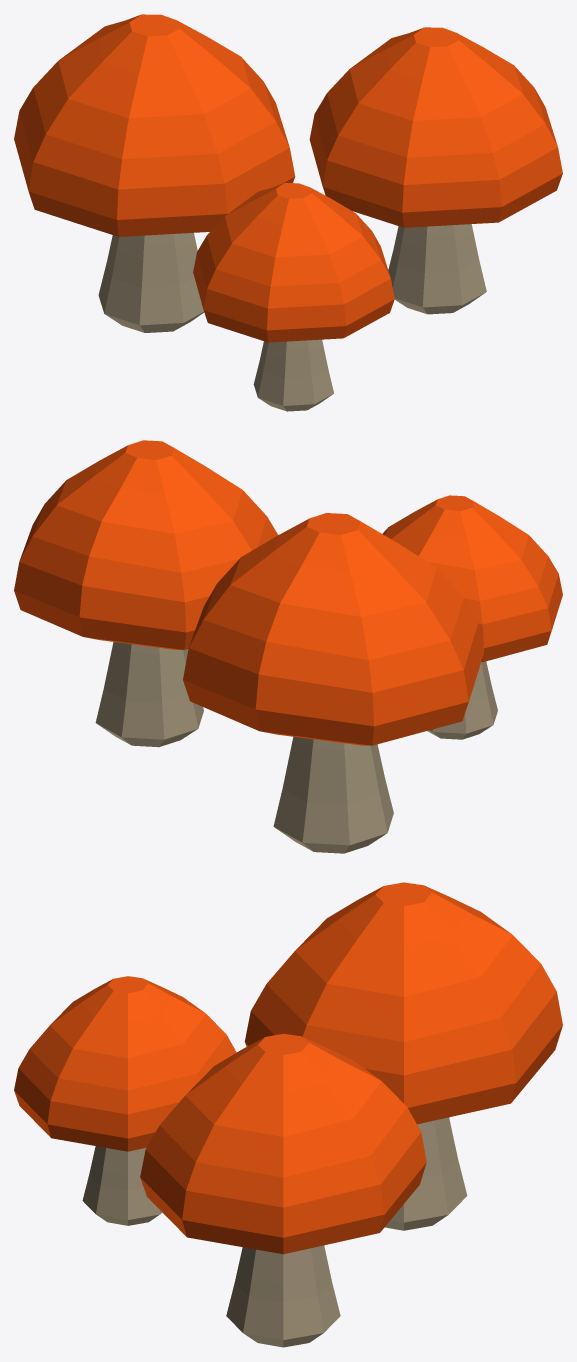
File: mushrooms_02.fbx
The picture shows the model from 3 angles, top to bottom: view 1: azimuth 30°, elevation 25°; view 2: azimuth 150°, elevation 25°; view 3: azimuth 270°, elevation 25°; orthographic projection. The views are drawn at different scales.
Parts seen in each view (by area): view 1: Circle.007, Circle.005, Circle.006; view 2: Circle.007, Circle.005, Circle.006; view 3: Circle.005, Circle.007, Circle.006.
Boxes of the visible parts, left/top/right/bottom form: Circle.007: left=14, top=14, right=295, bottom=332; Circle.005: left=309, top=27, right=562, bottom=314; Circle.006: left=193, top=183, right=394, bottom=411; Circle.007: left=183, top=513, right=484, bottom=853; Circle.005: left=14, top=440, right=277, bottom=747; Circle.006: left=382, top=495, right=562, bottom=739; Circle.005: left=140, top=1033, right=426, bottom=1347; Circle.007: left=244, top=882, right=562, bottom=1230; Circle.006: left=14, top=976, right=236, bottom=1225.
Size of the model in its own units: 15.26 by 9.2 by 14.24.
